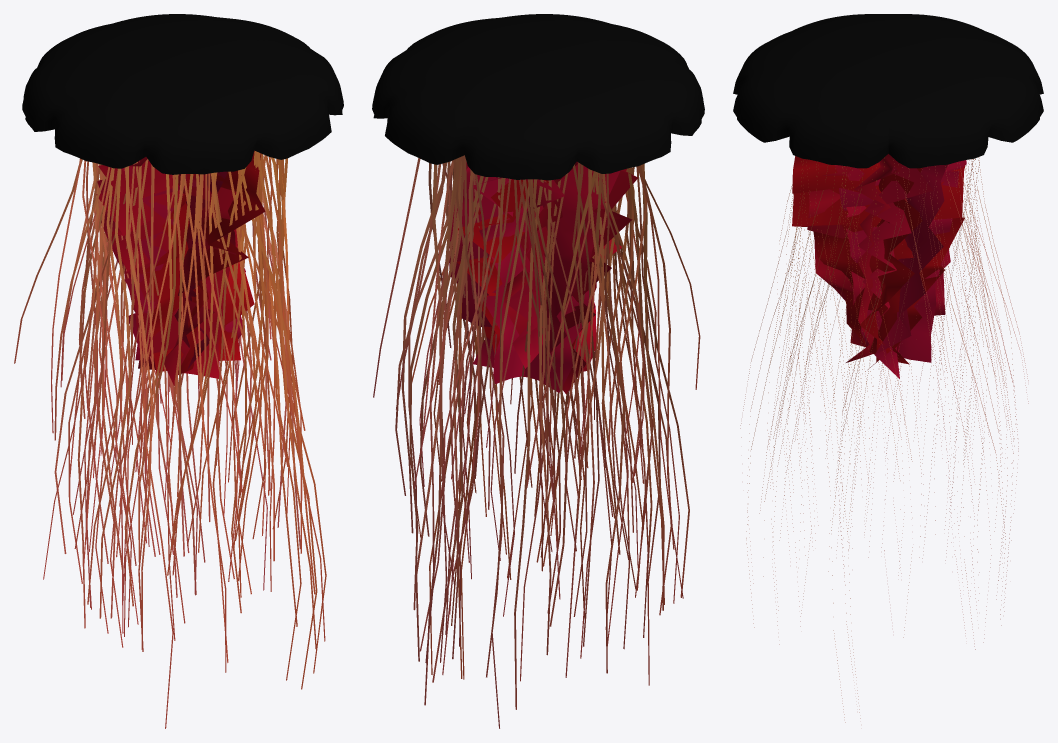
Rendered from lions_mane_jelly_game.glb.
3 views of the same model, side by side, from view 1: azimuth 30°, elevation 25°; view 2: azimuth 150°, elevation 25°; view 3: azimuth 270°, elevation 25° (orthographic). The views are drawn at different scales.
Visible parts, largest first — view 1: lions_mane_jelly_game; view 2: lions_mane_jelly_game; view 3: lions_mane_jelly_game.
Part boxes in pixels (x1,y1,x2,y2): lions_mane_jelly_game: (14, 14, 343, 728); lions_mane_jelly_game: (372, 14, 704, 728); lions_mane_jelly_game: (733, 14, 1043, 722).
Bounding box in the file's own units: 1.5 × 3.32 × 1.49.
